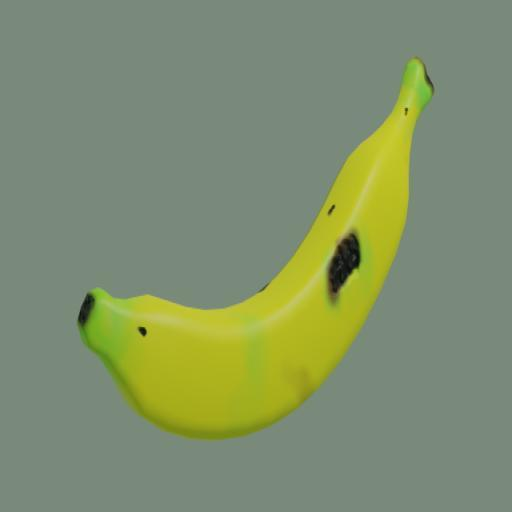banana: (78, 57, 433, 439)
